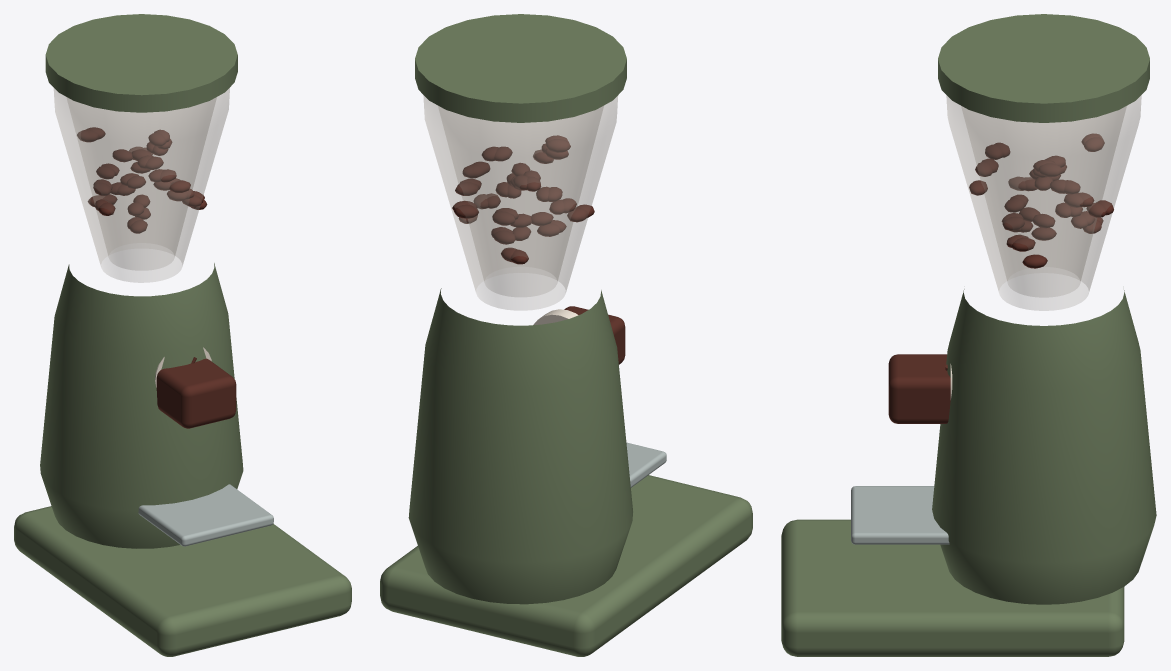
Rendered from grinder.glb.
3 renders of one model, left to right at view 1: azimuth 30°, elevation 25°; view 2: azimuth 150°, elevation 25°; view 3: azimuth 270°, elevation 25°, orthographic. The views are drawn at different scales.
Visible parts, largest first — view 1: surface-#6F7F5F,0,0.7, surface-hopper-glass, surface-#5A2E25,0,0.7, surface-#AFB9B7,0.8,0.7; view 2: surface-#6F7F5F,0,0.7, surface-hopper-glass, surface-#5A2E25,0,0.7, surface-#AFB9B7,0.8,0.7; view 3: surface-#6F7F5F,0,0.7, surface-hopper-glass, surface-#5A2E25,0,0.7, surface-#AFB9B7,0.8,0.7.
Part boxes in pixels (left/top/right/bottom): surface-#6F7F5F,0,0.7: left=14, top=14, right=351, bottom=656; surface-hopper-glass: left=54, top=88, right=229, bottom=282; surface-#5A2E25,0,0.7: left=77, top=127, right=236, bottom=428; surface-#AFB9B7,0.8,0.7: left=138, top=484, right=273, bottom=546; surface-#6F7F5F,0,0.7: left=380, top=14, right=752, bottom=656; surface-hopper-glass: left=423, top=95, right=617, bottom=310; surface-#5A2E25,0,0.7: left=452, top=135, right=625, bottom=364; surface-#AFB9B7,0.8,0.7: left=626, top=442, right=666, bottom=487; surface-#6F7F5F,0,0.7: left=781, top=14, right=1156, bottom=656; surface-hopper-glass: left=946, top=95, right=1141, bottom=310; surface-#5A2E25,0,0.7: left=888, top=133, right=1113, bottom=423; surface-#AFB9B7,0.8,0.7: left=851, top=486, right=949, bottom=544.
Size of the model in its own units: 0.23 by 0.5675 by 0.35.
